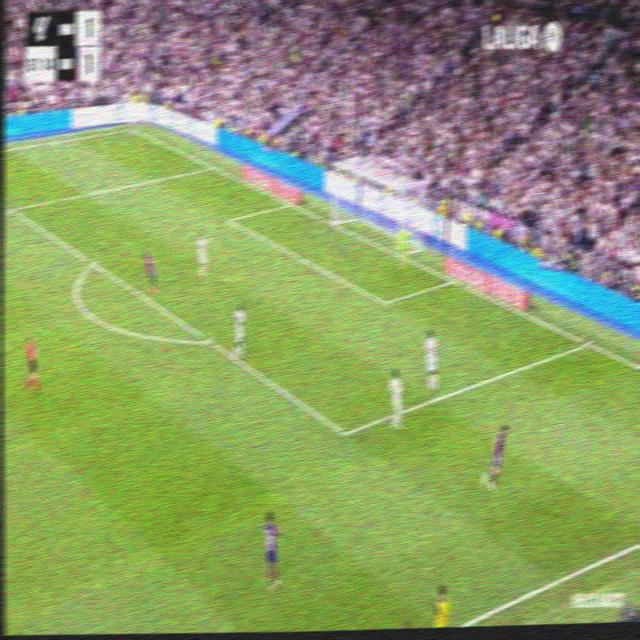bigarea_bottom_inner: (337, 418, 351, 447)
bigarea_bottom_outter: (582, 333, 594, 351)
bigarea_top_inner: (5, 198, 18, 218)
bigarea_top_outter: (207, 158, 217, 173)
bottom_arc_area_intersection: (201, 330, 214, 350)
corner: (126, 122, 138, 133)
smallarea_top_inner: (225, 214, 232, 226)
top_arc_area_intersection: (87, 252, 99, 271)
